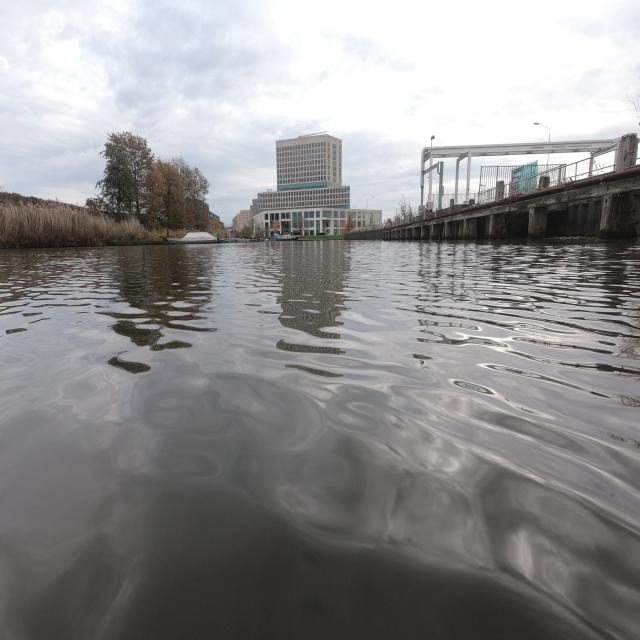boat: (166, 232, 217, 244), (276, 234, 298, 241)
reed: (0, 201, 163, 248)
water: (0, 240, 640, 640)
